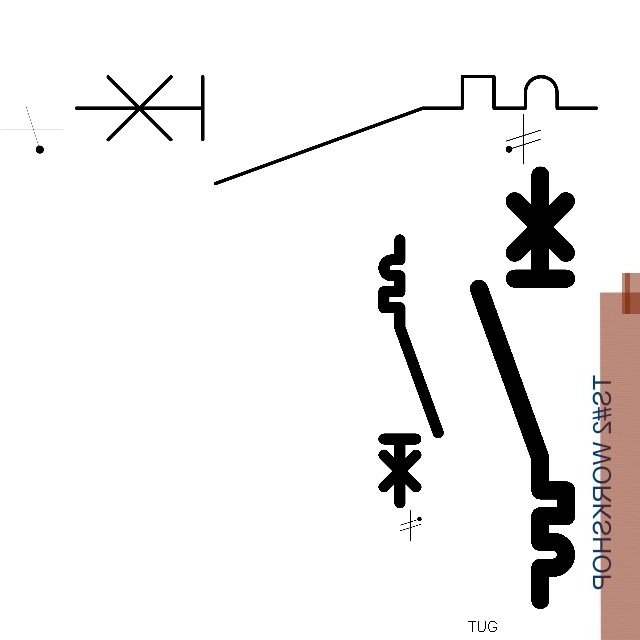interruptor_termomagnetico: (62, 63, 609, 197), (468, 164, 577, 611), (377, 233, 444, 510)
